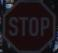Stop sign: (0, 0, 57, 52)
